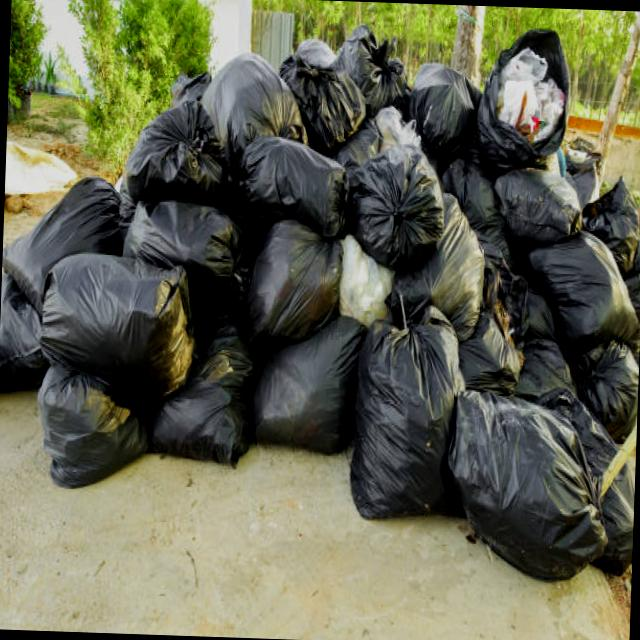garbage: (0, 19, 640, 603)
